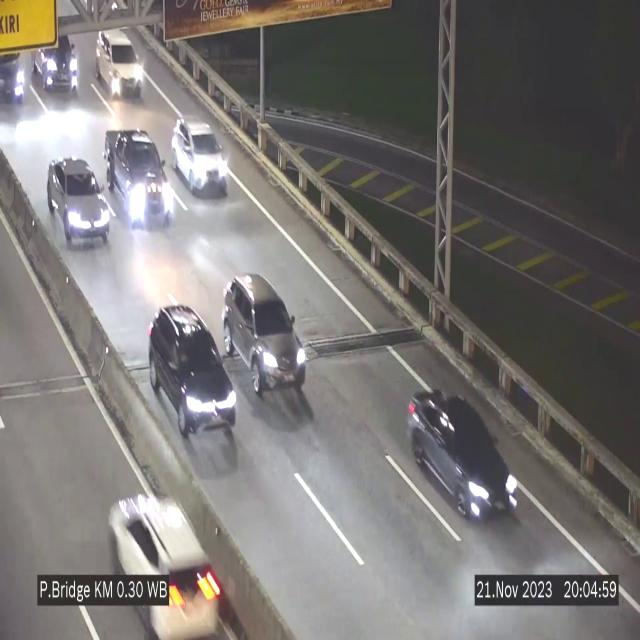Car: (101, 482, 233, 640), (148, 304, 237, 466), (408, 389, 518, 519), (224, 270, 308, 398), (104, 129, 174, 238), (47, 158, 109, 246), (29, 21, 84, 100), (172, 118, 228, 194), (96, 29, 144, 100), (0, 39, 30, 115)
